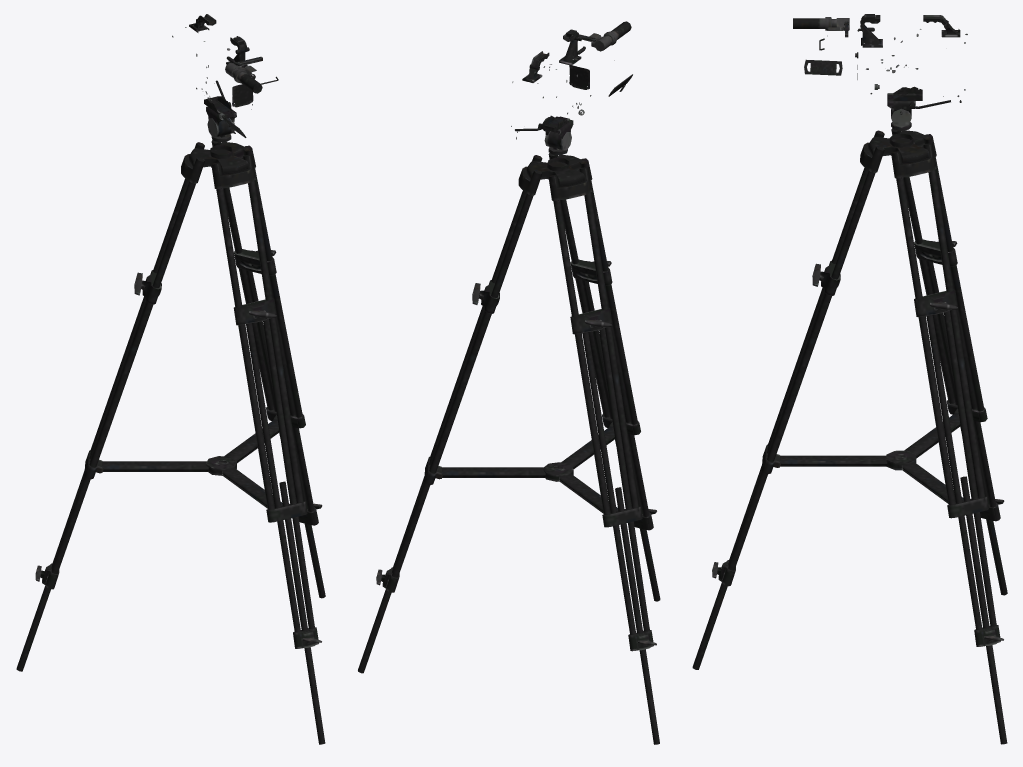
The model's file is 012_videocamera01a.fbx.
The picture shows the model from 3 angles, left to right: view 1: azimuth 30°, elevation 25°; view 2: azimuth 150°, elevation 25°; view 3: azimuth 270°, elevation 25°; orthographic projection. The views are drawn at different scales.
Visible parts, largest first — view 1: LOD_1_Group_0_Sub_1__sm31_012_VideoCamera01A_A_Mat; view 2: LOD_1_Group_0_Sub_1__sm31_012_VideoCamera01A_A_Mat; view 3: LOD_1_Group_0_Sub_1__sm31_012_VideoCamera01A_A_Mat.
Boxes of the visible parts, x1,y1,x2,y2 form: LOD_1_Group_0_Sub_1__sm31_012_VideoCamera01A_A_Mat: (16,14,325,744); LOD_1_Group_0_Sub_1__sm31_012_VideoCamera01A_A_Mat: (358,21,660,744); LOD_1_Group_0_Sub_1__sm31_012_VideoCamera01A_A_Mat: (692,14,1007,744).
Bounding box in the file's own units: 0.896 × 1.81 × 0.7768.
